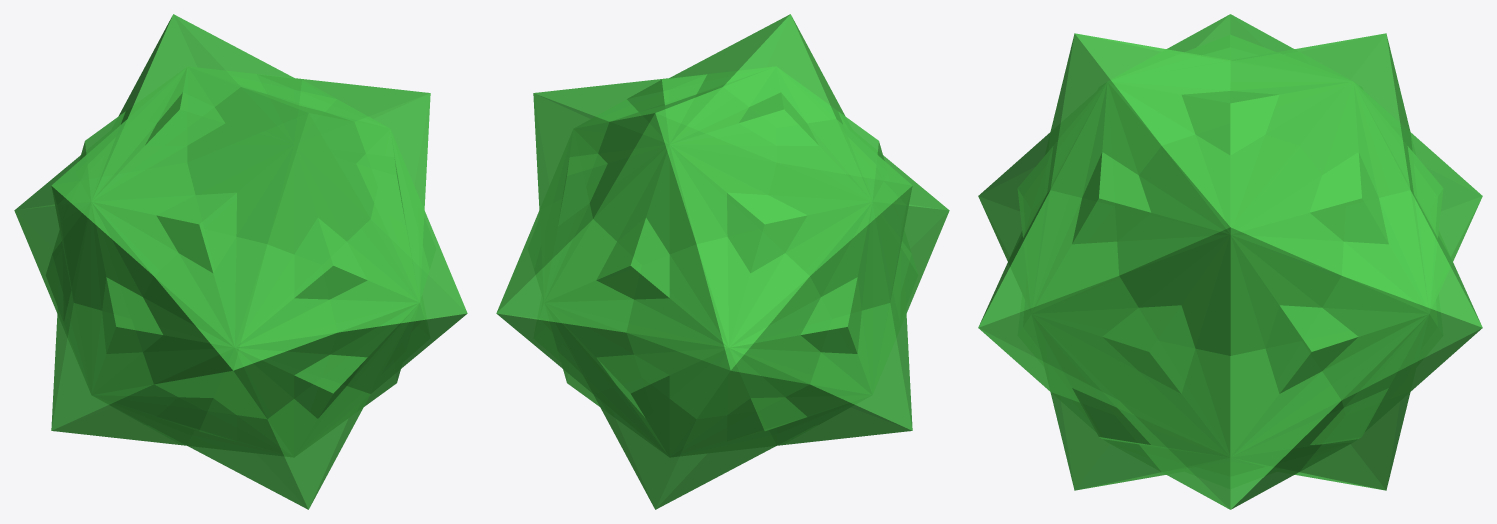
The model's file is GreatDitrigonalDodecacronicHexecontahedron.obj.
The picture shows the model from 3 angles, left to right: view 1: azimuth 30°, elevation 25°; view 2: azimuth 150°, elevation 25°; view 3: azimuth 270°, elevation 25°; orthographic projection. The views are drawn at different scales.
Size of the model in its own units: 2.35 by 2.35 by 2.35.
